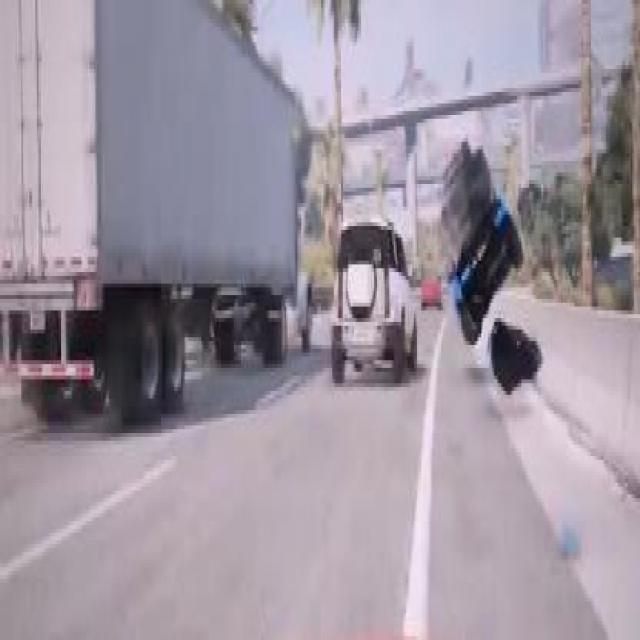accident: (424, 92, 556, 406)
